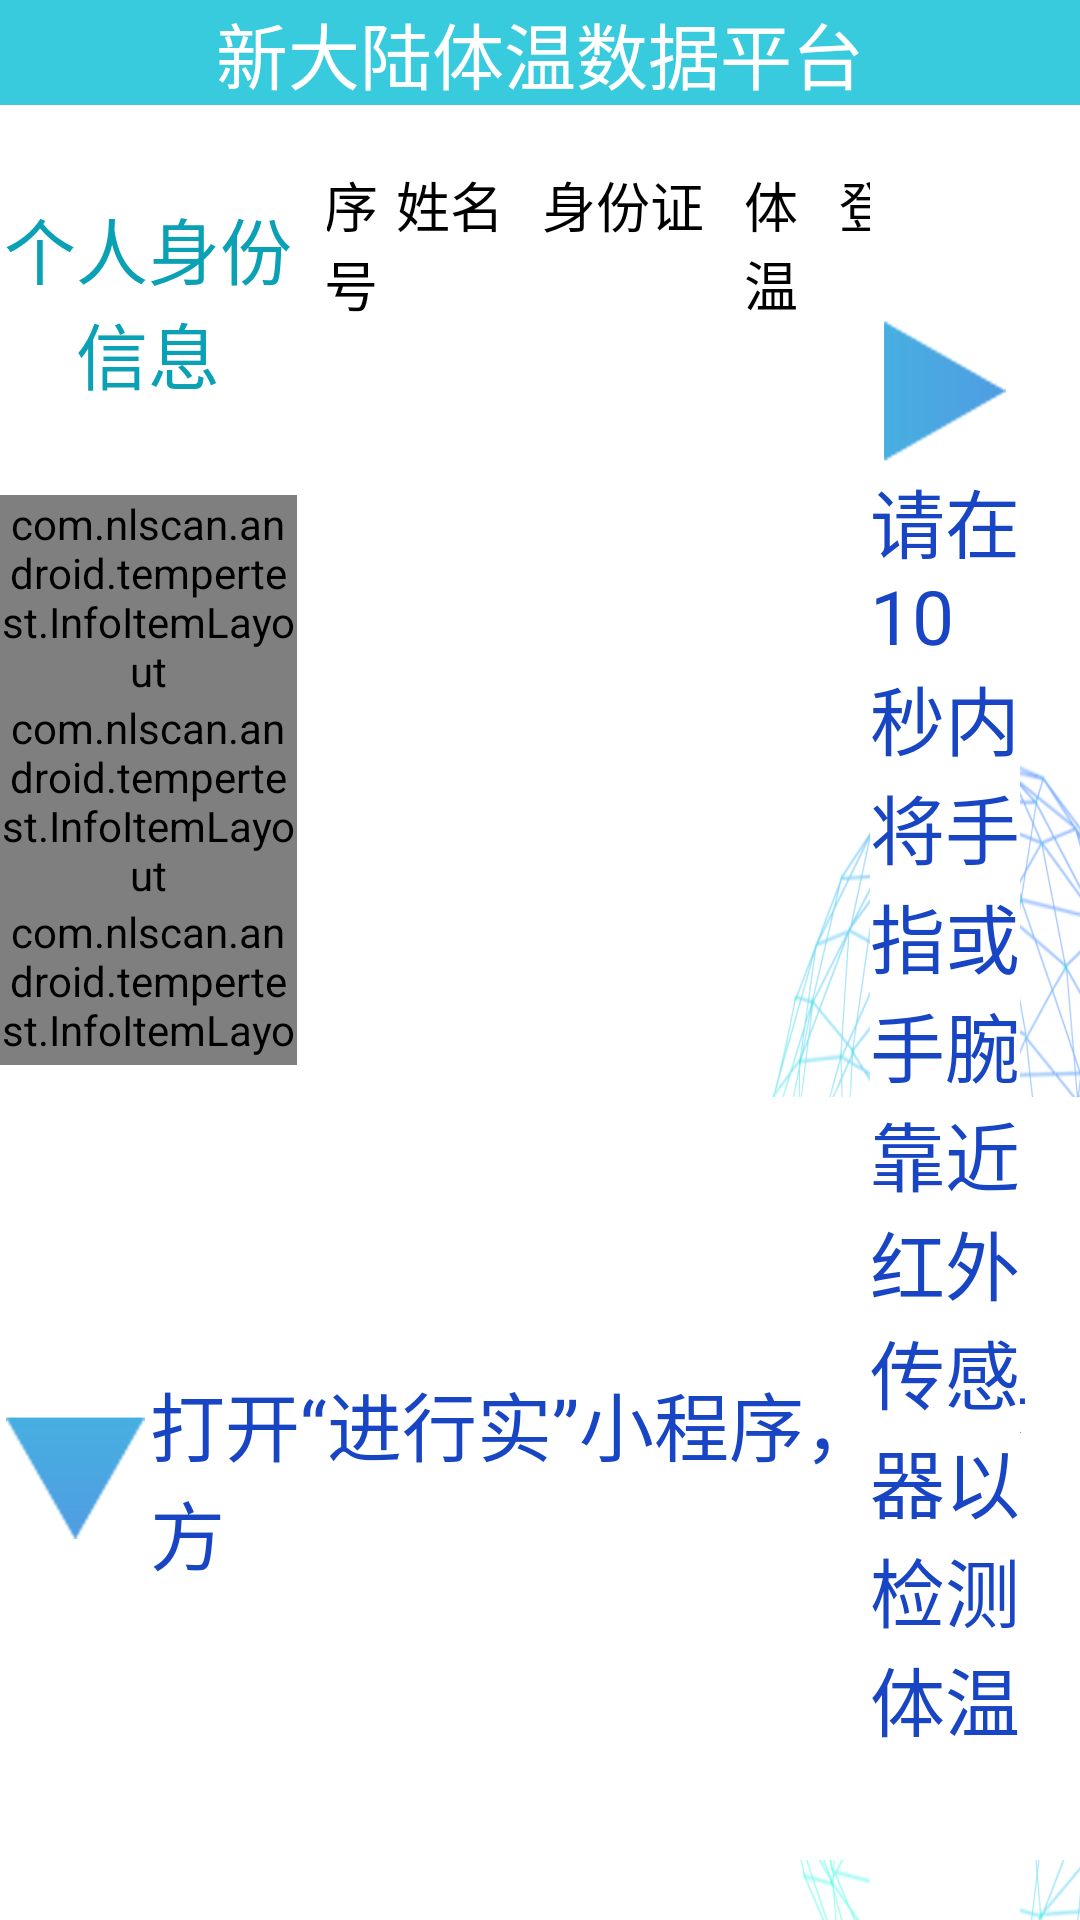

Icon click points for this 1080 × 1920 phone screenshot, format [x,y]:
arrow down: [75,1478]
arrow right: [945,391]
